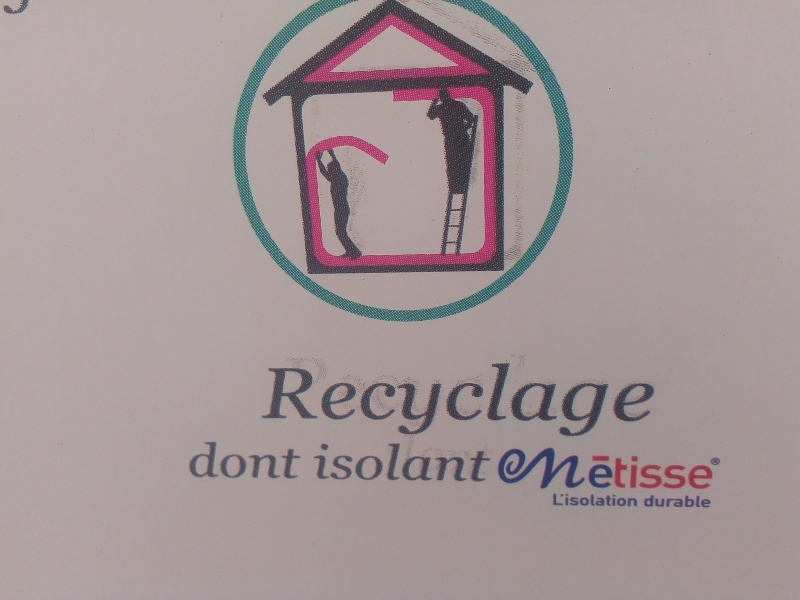text: (273, 360, 288, 443), (289, 360, 304, 443), (305, 360, 320, 443), (321, 360, 336, 443), (337, 360, 352, 443), (353, 360, 368, 443), (369, 360, 384, 443), (385, 360, 400, 443), (401, 360, 416, 443), (417, 360, 432, 443), (433, 360, 448, 443), (449, 360, 464, 443), (465, 360, 480, 443), (481, 360, 496, 443), (497, 360, 512, 443), (513, 360, 528, 443), (529, 360, 544, 443), (545, 360, 560, 443), (561, 360, 576, 443), (577, 360, 592, 443), (593, 360, 608, 443), (609, 360, 624, 443), (625, 360, 640, 443), (641, 360, 655, 443), (513, 445, 528, 495), (529, 445, 544, 495), (545, 445, 560, 495), (561, 445, 576, 495), (577, 445, 592, 495), (593, 445, 608, 495), (609, 445, 624, 495), (625, 445, 640, 495), (641, 445, 656, 495), (657, 445, 672, 495), (673, 445, 688, 495), (689, 445, 704, 495), (705, 445, 720, 495), (321, 439, 336, 484), (337, 439, 352, 484), (353, 439, 368, 484), (369, 439, 384, 484), (385, 439, 400, 484), (401, 439, 416, 484), (417, 439, 432, 484), (433, 439, 448, 484), (449, 439, 464, 484), (465, 439, 480, 484), (193, 440, 208, 481), (209, 440, 224, 481), (225, 440, 240, 481), (241, 440, 256, 481), (257, 440, 272, 481), (273, 440, 288, 481), (289, 440, 304, 481), (481, 439, 493, 484), (502, 445, 512, 495), (268, 360, 272, 443), (315, 439, 320, 484), (561, 493, 576, 508), (577, 493, 592, 508), (593, 493, 608, 508), (609, 493, 624, 508), (657, 495, 672, 509), (673, 495, 688, 509), (689, 495, 704, 509), (625, 493, 638, 508), (645, 495, 656, 509), (552, 493, 560, 508), (705, 495, 713, 509), (721, 445, 722, 495), (714, 459, 720, 464)
